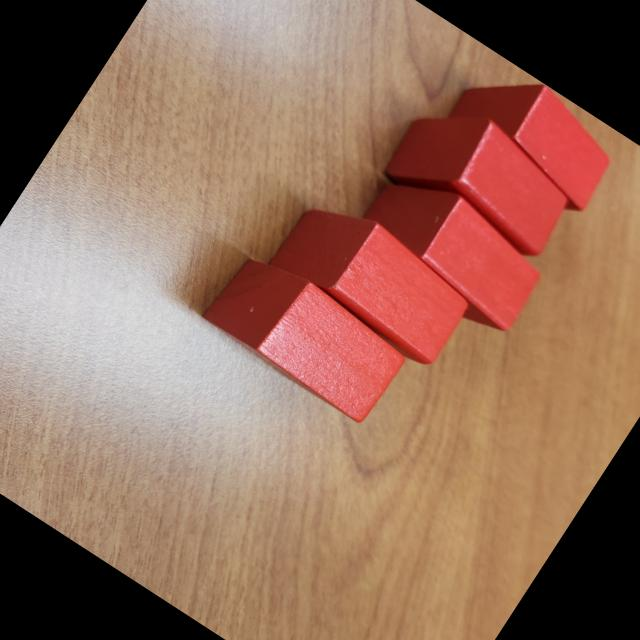red: (338, 154, 561, 348), (260, 182, 482, 374), (371, 80, 589, 275), (196, 240, 414, 426), (440, 52, 630, 220)
